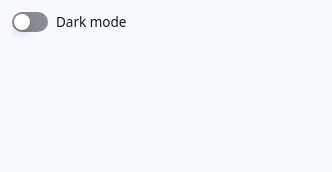
Test case: Switch › toggles when its label text is clicked
Step 1. Click the text "Dark mode" → (69, 22), box [12,12,126,32]
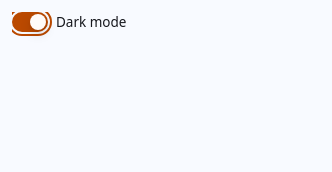
Expected: the switch is checked, [12,12,48,32]
